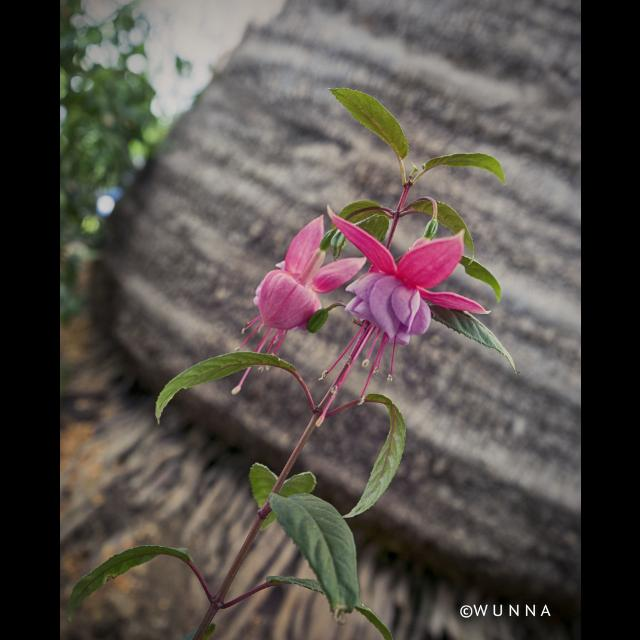Flower: (319, 205, 486, 421), (230, 212, 360, 388)
